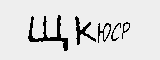К: (71, 16, 98, 44)
Р: (119, 20, 134, 41)
С: (110, 22, 122, 41)
Щ: (26, 14, 70, 51)
Ю: (95, 20, 111, 44)
